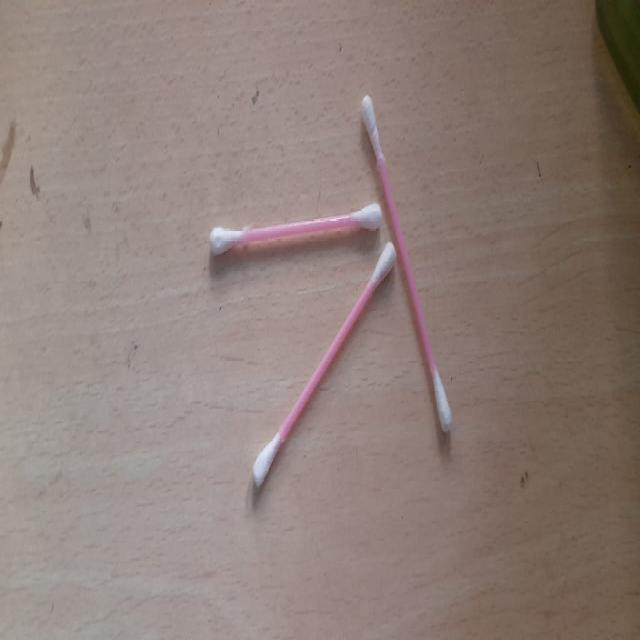Earbud - Non Recyclable: (202, 88, 466, 539)
